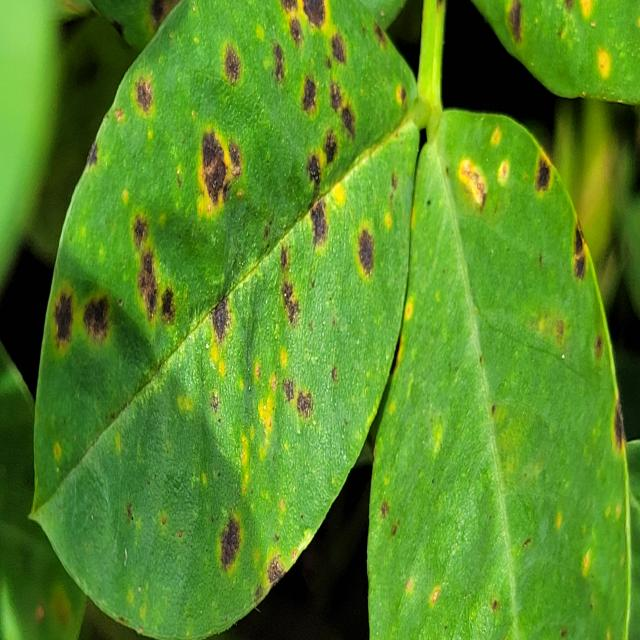Ground nut_tikka leaf spot: (26, 0, 423, 640)
